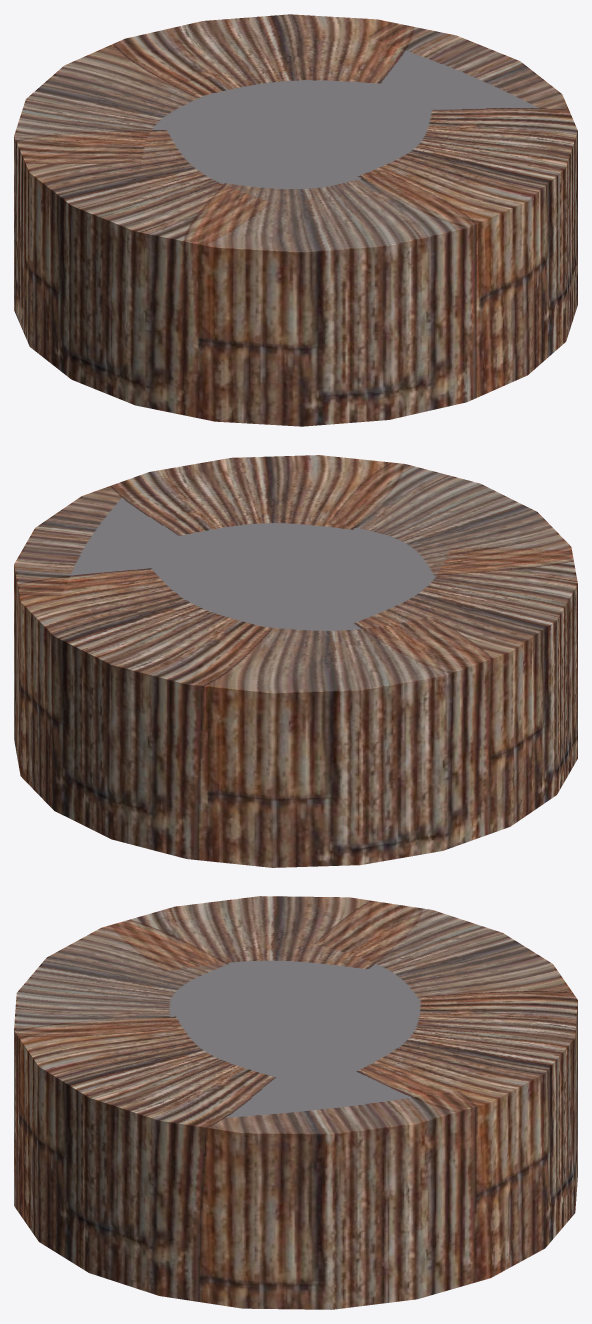
File: RoundBench.fbx
3 views of the same model, one above another, from view 1: azimuth 30°, elevation 25°; view 2: azimuth 150°, elevation 25°; view 3: azimuth 270°, elevation 25° (orthographic).
Visible parts, largest first — view 1: node_id6 (×2); view 2: node_id6 (×2); view 3: node_id6 (×2).
Part boxes in pixels (x1,y1,x2,y2): node_id6 (×2): [14, 14, 577, 426]; node_id6 (×2): [14, 455, 577, 867]; node_id6 (×2): [14, 896, 577, 1309].
Bounding box in the file's own units: 0.5079 × 0.1742 × 0.5079.
2 materials, 2 textured.
